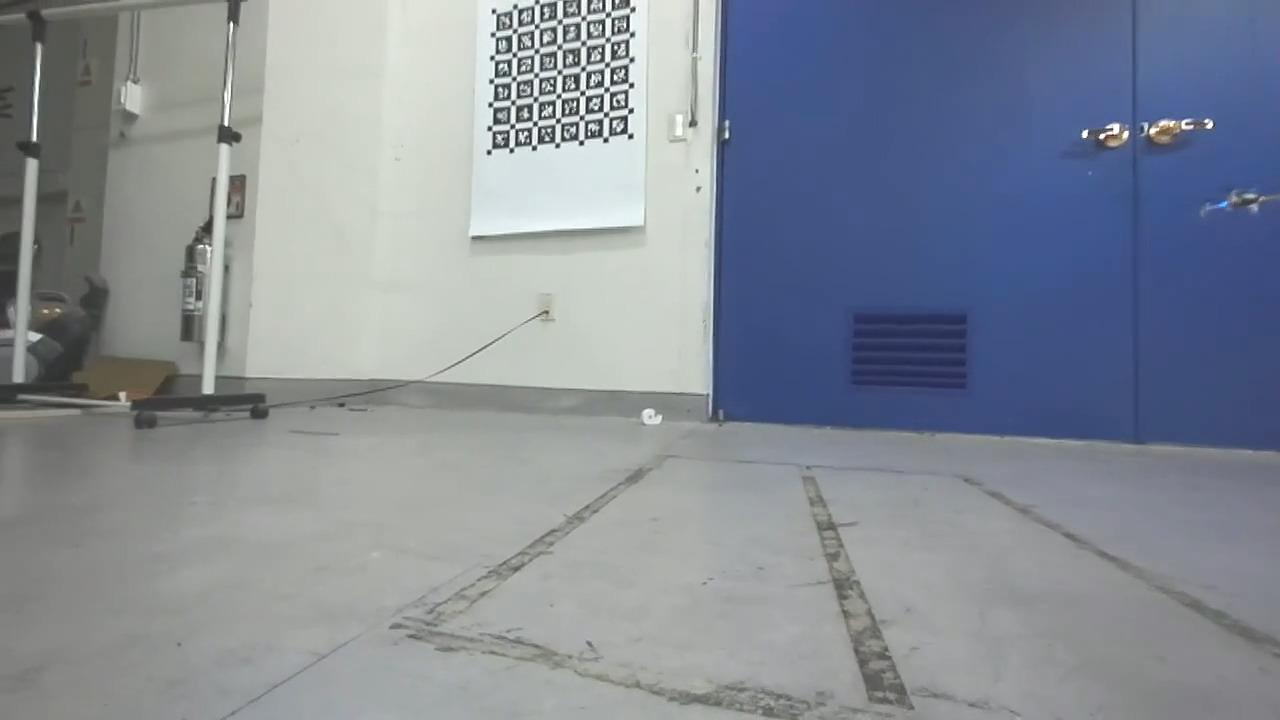crazyflie: (1195, 184, 1280, 222)
